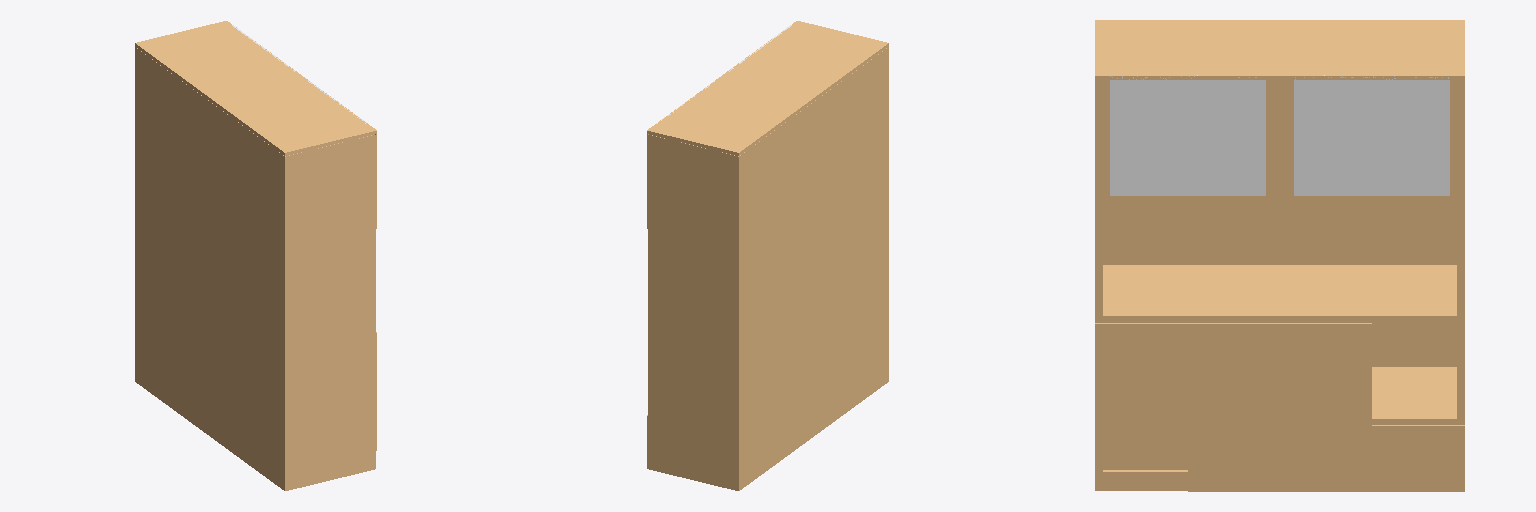
The robot description file, URDF, robot "room610-cupboard_fixed":
<?xml version="1.0"?>
<robot name="room610-cupboard_fixed"
       xmlns:xi="http://www.w3.org/2001/XInclude"
       >
  <gazebo>
    <static>false</static>
  </gazebo>
  <link name="ROOT_link">
    <visual>
      <origin xyz="0 0 0" rpy="0 -0 0"/>
      <geometry>
        <mesh filename="model://room610-cupboard/meshes/ROOT_link_mesh.dae" scale="1 1 1" />
      </geometry>
    </visual>
    <collision>
      <origin xyz="0 0 0" rpy="0 -0 0"/>
      <geometry>
        <mesh filename="model://room610-cupboard/meshes/ROOT_link_mesh.dae" scale="1 1 1" />
      </geometry>
    </collision>
    <inertial>
      <mass value="0.001" />
      <origin xyz="0 0 0" rpy="0 -0 0"/>
      <inertia ixx="1e-03" ixy="0" ixz="0" iyy="1e-03" iyz="0" izz="1e-03"/>
    </inertial>
  </link>
  <gazebo reference="ROOT_link">
    <mu1>0.9</mu1>
    <mu2>0.9</mu2>
  </gazebo>
  <link name="ROOM610-CUPBOARD-BODYSET2_link">
    <visual>
      <origin xyz="0.267 0.763 1.355" rpy="0 -0 0"/>
      <geometry>
        <mesh filename="model://room610-cupboard/meshes/ROOM610-CUPBOARD-BODYSET2_link_mesh.dae" scale="1 1 1" />
      </geometry>
    </visual>
    <collision>
      <origin xyz="0.267 0.763 1.355" rpy="0 -0 0"/>
      <geometry>
        <mesh filename="model://room610-cupboard/meshes/ROOM610-CUPBOARD-BODYSET2_link_mesh.dae" scale="1 1 1" />
      </geometry>
    </collision>
    <inertial>
      <mass value="0.001" />
      <origin xyz="0 0 0" rpy="0 -0 0"/>
      <inertia ixx="1e-03" ixy="0" ixz="0" iyy="1e-03" iyz="0" izz="1e-03"/>
    </inertial>
  </link>
  <gazebo reference="ROOM610-CUPBOARD-BODYSET2_link">
    <mu1>0.9</mu1>
    <mu2>0.9</mu2>
  </gazebo>
  <link name="ROOM610-CUPBOARD-BODYSET3_link">
    <visual>
      <origin xyz="0.267 -0.763 1.355" rpy="0 -0 0"/>
      <geometry>
        <mesh filename="model://room610-cupboard/meshes/ROOM610-CUPBOARD-BODYSET3_link_mesh.dae" scale="1 1 1" />
      </geometry>
    </visual>
    <collision>
      <origin xyz="0.267 -0.763 1.355" rpy="0 -0 0"/>
      <geometry>
        <mesh filename="model://room610-cupboard/meshes/ROOM610-CUPBOARD-BODYSET3_link_mesh.dae" scale="1 1 1" />
      </geometry>
    </collision>
    <inertial>
      <mass value="0.001" />
      <origin xyz="0 0 0" rpy="0 -0 0"/>
      <inertia ixx="1e-03" ixy="0" ixz="0" iyy="1e-03" iyz="0" izz="1e-03"/>
    </inertial>
  </link>
  <gazebo reference="ROOM610-CUPBOARD-BODYSET3_link">
    <mu1>0.9</mu1>
    <mu2>0.9</mu2>
  </gazebo>
  <link name="ROOM610-CUPBOARD-BODYSET8_link">
    <visual>
      <origin xyz="0 0 0.145" rpy="0 -0 0"/>
      <geometry>
        <mesh filename="model://room610-cupboard/meshes/ROOM610-CUPBOARD-BODYSET8_link_mesh.dae" scale="1 1 1" />
      </geometry>
    </visual>
    <collision>
      <origin xyz="0 0 0.145" rpy="0 -0 0"/>
      <geometry>
        <mesh filename="model://room610-cupboard/meshes/ROOM610-CUPBOARD-BODYSET8_link_mesh.dae" scale="1 1 1" />
      </geometry>
    </collision>
    <inertial>
      <mass value="0.001" />
      <origin xyz="0 0 0" rpy="0 -0 0"/>
      <inertia ixx="1e-03" ixy="0" ixz="0" iyy="1e-03" iyz="0" izz="1e-03"/>
    </inertial>
  </link>
  <gazebo reference="ROOM610-CUPBOARD-BODYSET8_link">
    <mu1>0.9</mu1>
    <mu2>0.9</mu2>
  </gazebo>
  <link name="ROOM610-CUPBOARD-BODYSET7_link">
    <visual>
      <origin xyz="0 0 0.445" rpy="0 -0 0"/>
      <geometry>
        <mesh filename="model://room610-cupboard/meshes/ROOM610-CUPBOARD-BODYSET7_link_mesh.dae" scale="1 1 1" />
      </geometry>
    </visual>
    <collision>
      <origin xyz="0 0 0.445" rpy="0 -0 0"/>
      <geometry>
        <mesh filename="model://room610-cupboard/meshes/ROOM610-CUPBOARD-BODYSET7_link_mesh.dae" scale="1 1 1" />
      </geometry>
    </collision>
    <inertial>
      <mass value="0.001" />
      <origin xyz="0 0 0" rpy="0 -0 0"/>
      <inertia ixx="1e-03" ixy="0" ixz="0" iyy="1e-03" iyz="0" izz="1e-03"/>
    </inertial>
  </link>
  <gazebo reference="ROOM610-CUPBOARD-BODYSET7_link">
    <mu1>0.9</mu1>
    <mu2>0.9</mu2>
  </gazebo>
  <link name="ROOM610-CUPBOARD-BODYSET6_link">
    <visual>
      <origin xyz="0 0 0.679" rpy="0 -0 0"/>
      <geometry>
        <mesh filename="model://room610-cupboard/meshes/ROOM610-CUPBOARD-BODYSET6_link_mesh.dae" scale="1 1 1" />
      </geometry>
    </visual>
    <collision>
      <origin xyz="0 0 0.679" rpy="0 -0 0"/>
      <geometry>
        <mesh filename="model://room610-cupboard/meshes/ROOM610-CUPBOARD-BODYSET6_link_mesh.dae" scale="1 1 1" />
      </geometry>
    </collision>
    <inertial>
      <mass value="0.001" />
      <origin xyz="0 0 0" rpy="0 -0 0"/>
      <inertia ixx="1e-03" ixy="0" ixz="0" iyy="1e-03" iyz="0" izz="1e-03"/>
    </inertial>
  </link>
  <gazebo reference="ROOM610-CUPBOARD-BODYSET6_link">
    <mu1>0.9</mu1>
    <mu2>0.9</mu2>
  </gazebo>
  <link name="ROOM610-CUPBOARD-BODYSET5_link">
    <visual>
      <origin xyz="0 -0.576 0.429" rpy="0 -0 0"/>
      <geometry>
        <mesh filename="model://room610-cupboard/meshes/ROOM610-CUPBOARD-BODYSET5_link_mesh.dae" scale="1 1 1" />
      </geometry>
    </visual>
    <collision>
      <origin xyz="0 -0.576 0.429" rpy="0 -0 0"/>
      <geometry>
        <mesh filename="model://room610-cupboard/meshes/ROOM610-CUPBOARD-BODYSET5_link_mesh.dae" scale="1 1 1" />
      </geometry>
    </collision>
    <inertial>
      <mass value="0.001" />
      <origin xyz="0 0 0" rpy="0 -0 0"/>
      <inertia ixx="1e-03" ixy="0" ixz="0" iyy="1e-03" iyz="0" izz="1e-03"/>
    </inertial>
  </link>
  <gazebo reference="ROOM610-CUPBOARD-BODYSET5_link">
    <mu1>0.9</mu1>
    <mu2>0.9</mu2>
  </gazebo>
  <link name="ROOM610-CUPBOARD-BODYSET4_link">
    <visual>
      <origin xyz="0 0.576 0.145" rpy="0 -0 0"/>
      <geometry>
        <mesh filename="model://room610-cupboard/meshes/ROOM610-CUPBOARD-BODYSET4_link_mesh.dae" scale="1 1 1" />
      </geometry>
    </visual>
    <collision>
      <origin xyz="0 0.576 0.145" rpy="0 -0 0"/>
      <geometry>
        <mesh filename="model://room610-cupboard/meshes/ROOM610-CUPBOARD-BODYSET4_link_mesh.dae" scale="1 1 1" />
      </geometry>
    </collision>
    <inertial>
      <mass value="0.001" />
      <origin xyz="0 0 0" rpy="0 -0 0"/>
      <inertia ixx="1e-03" ixy="0" ixz="0" iyy="1e-03" iyz="0" izz="1e-03"/>
    </inertial>
  </link>
  <gazebo reference="ROOM610-CUPBOARD-BODYSET4_link">
    <mu1>0.9</mu1>
    <mu2>0.9</mu2>
  </gazebo>
  <joint name="DOOR-UPPER-LEFT" type="revolute">
    <parent link="ROOT_link"/>
    <child  link="ROOM610-CUPBOARD-BODYSET2_link"/>
    <origin xyz="0.267 0.763 1.355" rpy="0 -0 0 "/>
    <axis   xyz="0 0 1"/>
    <limit lower="0" upper="1.5708" effort="100" velocity="0.5" />
    <dynamics damping="0.2" friction="0" />
  </joint>
  <transmission type="pr2_mechanism_model/SimpleTransmission" name="DOOR-UPPER-LEFT_trans" >
    <actuator name="DOOR-UPPER-LEFT_motor" />
    <joint name="DOOR-UPPER-LEFT" />
    <mechanicalReduction>1</mechanicalReduction>
  </transmission>
  <gazebo reference="DOOR-UPPER-LEFT">
    <cfmDamping>0.4</cfmDamping>
  </gazebo>
  <joint name="DOOR-UPPER-RIGHT" type="revolute">
    <parent link="ROOT_link"/>
    <child  link="ROOM610-CUPBOARD-BODYSET3_link"/>
    <origin xyz="0.267 -0.763 1.355" rpy="0 -0 0 "/>
    <axis   xyz="0 0 -1"/>
    <limit lower="0" upper="1.5708" effort="100" velocity="0.5" />
    <dynamics damping="0.2" friction="0" />
  </joint>
  <transmission type="pr2_mechanism_model/SimpleTransmission" name="DOOR-UPPER-RIGHT_trans" >
    <actuator name="DOOR-UPPER-RIGHT_motor" />
    <joint name="DOOR-UPPER-RIGHT" />
    <mechanicalReduction>1</mechanicalReduction>
  </transmission>
  <gazebo reference="DOOR-UPPER-RIGHT">
    <cfmDamping>0.4</cfmDamping>
  </gazebo>
  <joint name="DRAWER0" type="prismatic">
    <parent link="ROOT_link"/>
    <child  link="ROOM610-CUPBOARD-BODYSET8_link"/>
    <origin xyz="0 0 0.145" rpy="0 -0 0 "/>
    <axis   xyz="1 0 0"/>
    <limit lower="0" upper="0.544" effort="100" velocity="0.01" />
    <dynamics damping="0.2" friction="0" />
  </joint>
  <transmission type="pr2_mechanism_model/SimpleTransmission" name="DRAWER0_trans" >
    <actuator name="DRAWER0_motor" />
    <joint name="DRAWER0" />
    <mechanicalReduction>1</mechanicalReduction>
  </transmission>
  <gazebo reference="DRAWER0">
    <cfmDamping>0.4</cfmDamping>
  </gazebo>
  <joint name="DRAWER1" type="prismatic">
    <parent link="ROOT_link"/>
    <child  link="ROOM610-CUPBOARD-BODYSET7_link"/>
    <origin xyz="0 0 0.445" rpy="0 -0 0 "/>
    <axis   xyz="1 0 0"/>
    <limit lower="0" upper="0.544" effort="100" velocity="0.01" />
    <dynamics damping="0.2" friction="0" />
  </joint>
  <transmission type="pr2_mechanism_model/SimpleTransmission" name="DRAWER1_trans" >
    <actuator name="DRAWER1_motor" />
    <joint name="DRAWER1" />
    <mechanicalReduction>1</mechanicalReduction>
  </transmission>
  <gazebo reference="DRAWER1">
    <cfmDamping>0.4</cfmDamping>
  </gazebo>
  <joint name="DRAWER2" type="prismatic">
    <parent link="ROOT_link"/>
    <child  link="ROOM610-CUPBOARD-BODYSET6_link"/>
    <origin xyz="0 0 0.679" rpy="0 -0 0 "/>
    <axis   xyz="1 0 0"/>
    <limit lower="0" upper="0.544" effort="100" velocity="0.01" />
    <dynamics damping="0.2" friction="0" />
  </joint>
  <transmission type="pr2_mechanism_model/SimpleTransmission" name="DRAWER2_trans" >
    <actuator name="DRAWER2_motor" />
    <joint name="DRAWER2" />
    <mechanicalReduction>1</mechanicalReduction>
  </transmission>
  <gazebo reference="DRAWER2">
    <cfmDamping>0.4</cfmDamping>
  </gazebo>
  <joint name="DRAWER3" type="prismatic">
    <parent link="ROOT_link"/>
    <child  link="ROOM610-CUPBOARD-BODYSET5_link"/>
    <origin xyz="0 -0.576 0.429" rpy="0 -0 0 "/>
    <axis   xyz="1 0 0"/>
    <limit lower="0" upper="0.544" effort="100" velocity="0.01" />
    <dynamics damping="0.2" friction="0" />
  </joint>
  <transmission type="pr2_mechanism_model/SimpleTransmission" name="DRAWER3_trans" >
    <actuator name="DRAWER3_motor" />
    <joint name="DRAWER3" />
    <mechanicalReduction>1</mechanicalReduction>
  </transmission>
  <gazebo reference="DRAWER3">
    <cfmDamping>0.4</cfmDamping>
  </gazebo>
  <joint name="DRAWER4" type="prismatic">
    <parent link="ROOT_link"/>
    <child  link="ROOM610-CUPBOARD-BODYSET4_link"/>
    <origin xyz="0 0.576 0.145" rpy="0 -0 0 "/>
    <axis   xyz="1 0 0"/>
    <limit lower="0" upper="0.544" effort="100" velocity="0.01" />
    <dynamics damping="0.2" friction="0" />
  </joint>
  <transmission type="pr2_mechanism_model/SimpleTransmission" name="DRAWER4_trans" >
    <actuator name="DRAWER4_motor" />
    <joint name="DRAWER4" />
    <mechanicalReduction>1</mechanicalReduction>
  </transmission>
  <gazebo reference="DRAWER4">
    <cfmDamping>0.4</cfmDamping>
  </gazebo>
  <!-- Used for fixing robot to Gazebo 'base_link' -->
  <link name="world"/>
  <joint name="fixed" type="fixed">
    <parent link="world"/>
    <child link="ROOT_link"/>
  </joint>
</robot>

--- Facts derived from the render (not from the file) ---
Views: 3 orthographic renders of the robot side by side, from view 1: azimuth 30°, elevation 25°; view 2: azimuth 150°, elevation 25°; view 3: azimuth 270°, elevation 25°.
Robot: room610-cupboard_fixed — 9 links, 8 joints (2 revolute, 5 prismatic, 1 fixed); root link world; default pose: every joint at zero.
Visible links, largest first — view 1: ROOT_link; view 2: ROOT_link; view 3: ROOT_link, ROOM610-CUPBOARD-BODYSET2_link, ROOM610-CUPBOARD-BODYSET3_link, ROOM610-CUPBOARD-BODYSET5_link, ROOM610-CUPBOARD-BODYSET8_link, ROOM610-CUPBOARD-BODYSET7_link, ROOM610-CUPBOARD-BODYSET6_link, ROOM610-CUPBOARD-BODYSET4_link.
Link boxes in pixels (x1=…): ROOT_link: x1=135, y1=21, x2=376, y2=490; ROOT_link: x1=647, y1=21, x2=888, y2=490; ROOT_link: x1=1095, y1=20, x2=1464, y2=490; ROOM610-CUPBOARD-BODYSET2_link: x1=1280, y1=75, x2=1464, y2=195; ROOM610-CUPBOARD-BODYSET3_link: x1=1095, y1=75, x2=1279, y2=195; ROOM610-CUPBOARD-BODYSET5_link: x1=1095, y1=323, x2=1187, y2=469; ROOM610-CUPBOARD-BODYSET8_link: x1=1188, y1=426, x2=1371, y2=491; ROOM610-CUPBOARD-BODYSET7_link: x1=1188, y1=361, x2=1371, y2=425; ROOM610-CUPBOARD-BODYSET6_link: x1=1188, y1=323, x2=1371, y2=360; ROOM610-CUPBOARD-BODYSET4_link: x1=1372, y1=425, x2=1464, y2=491.
Size in the robot's own frame: 0.544 by 1.54 by 1.91 metres.
8 mesh visuals loaded from 8 distinct referenced files (8 Collada DAE).